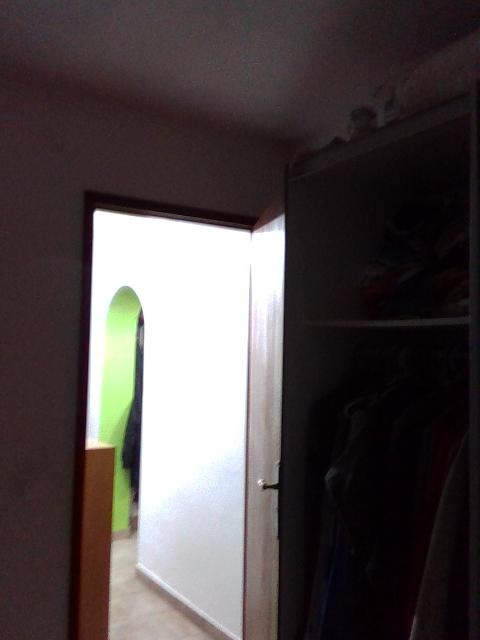open_door: (67, 187, 268, 639)
